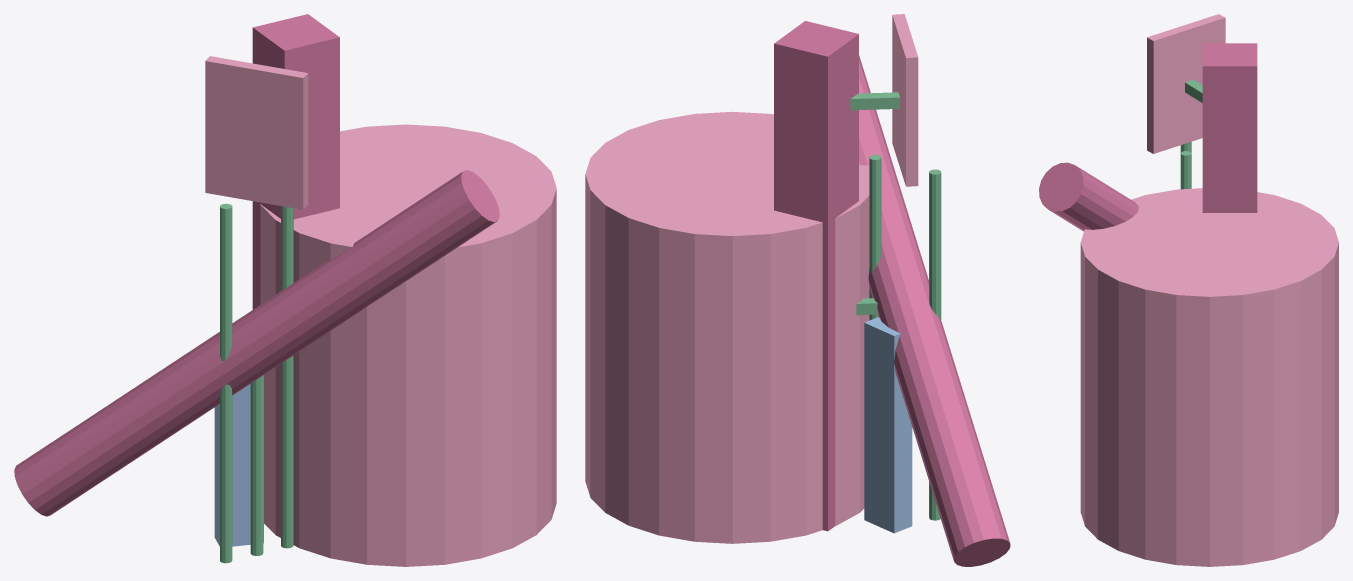
File: folie_tag_101.glb
3 views of the same model, side by side, from view 1: azimuth 30°, elevation 25°; view 2: azimuth 150°, elevation 25°; view 3: azimuth 270°, elevation 25° (orthographic). The views are drawn at different scales.
Parts seen in each view (by area): view 1: folie_tag_101_00_drum, folie_tag_101_01_tube, folie_tag_101_03_panel, folie_tag_101_line, folie_tag_101_core, folie_tag_101_02_fin; view 2: folie_tag_101_00_drum, folie_tag_101_01_tube, folie_tag_101_core, folie_tag_101_02_fin, folie_tag_101_line, folie_tag_101_03_panel; view 3: folie_tag_101_00_drum, folie_tag_101_core, folie_tag_101_03_panel, folie_tag_101_01_tube, folie_tag_101_line.
Part boxes in pixels (x1=…): folie_tag_101_00_drum: x1=260, y1=124, x2=556, y2=566; folie_tag_101_01_tube: x1=14, y1=170, x2=499, y2=516; folie_tag_101_03_panel: x1=205, y1=56, x2=308, y2=209; folie_tag_101_line: x1=220, y1=203, x2=293, y2=563; folie_tag_101_core: x1=252, y1=14, x2=339, y2=309; folie_tag_101_02_fin: x1=214, y1=375, x2=263, y2=546; folie_tag_101_00_drum: x1=585, y1=111, x2=869, y2=543; folie_tag_101_01_tube: x1=859, y1=55, x2=1010, y2=566; folie_tag_101_core: x1=774, y1=21, x2=858, y2=531; folie_tag_101_02_fin: x1=864, y1=317, x2=912, y2=533; folie_tag_101_line: x1=850, y1=92, x2=941, y2=520; folie_tag_101_03_panel: x1=892, y1=14, x2=918, y2=186; folie_tag_101_00_drum: x1=1080, y1=188, x2=1338, y2=566; folie_tag_101_core: x1=1202, y1=43, x2=1257, y2=212; folie_tag_101_03_panel: x1=1147, y1=14, x2=1225, y2=153; folie_tag_101_01_tube: x1=1039, y1=162, x2=1138, y2=231; folie_tag_101_line: x1=1180, y1=79, x2=1202, y2=189.
Size of the model in its own units: 9.28 by 9.26 by 6.04.
